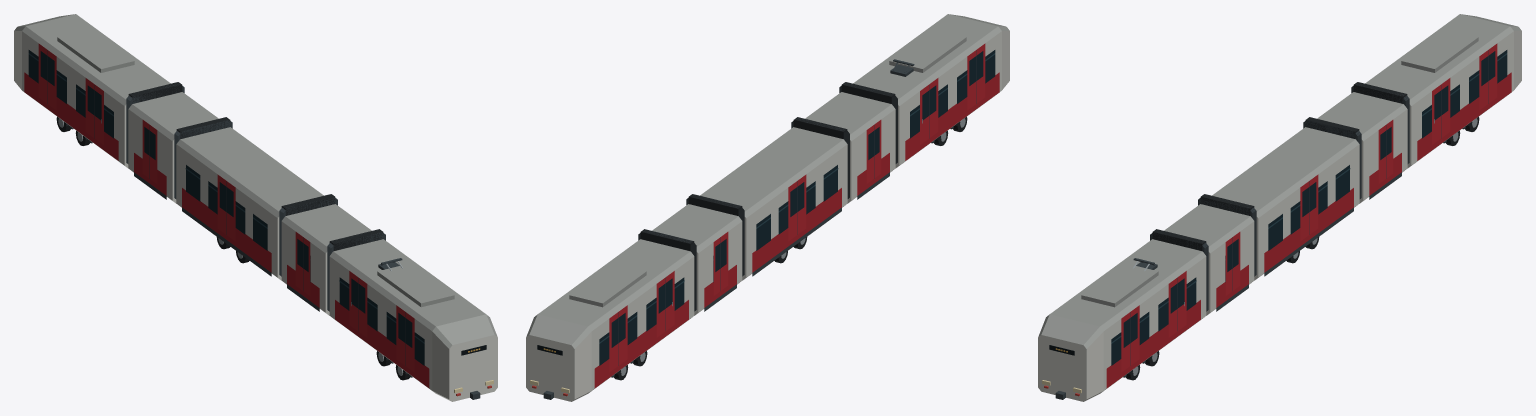
File: tram-vip-variobahn.glb
3 renders of one model, left to right at view 1: azimuth 30°, elevation 25°; view 2: azimuth 150°, elevation 25°; view 3: azimuth 330°, elevation 25°, orthographic.
Visible parts, largest first — view 1: tram-vip-variobahn.segment-01.005, tram-vip-variobahn.segment-03.005, tram-vip-variobahn.segment-05.005, tram-vip-variobahn.segment-04.005, tram-vip-variobahn.segment-02.005; view 2: tram-vip-variobahn.segment-05.005, tram-vip-variobahn.segment-01.005, tram-vip-variobahn.segment-03.005, tram-vip-variobahn.segment-04.005, tram-vip-variobahn.segment-02.005; view 3: tram-vip-variobahn.segment-01.005, tram-vip-variobahn.segment-03.005, tram-vip-variobahn.segment-05.005, tram-vip-variobahn.segment-04.005, tram-vip-variobahn.segment-02.005.
Part boxes in pixels (x1,y1,x2,y2): tram-vip-variobahn.segment-01.005: (327,229,497,401); tram-vip-variobahn.segment-03.005: (174,117,323,280); tram-vip-variobahn.segment-05.005: (14,14,170,168); tram-vip-variobahn.segment-04.005: (126,82,218,203); tram-vip-variobahn.segment-02.005: (279,194,371,315); tram-vip-variobahn.segment-05.005: (526,239,694,401); tram-vip-variobahn.segment-01.005: (839,14,1009,168); tram-vip-variobahn.segment-03.005: (686,127,847,280); tram-vip-variobahn.segment-04.005: (638,204,742,315); tram-vip-variobahn.segment-02.005: (791,92,895,203); tram-vip-variobahn.segment-01.005: (1038,229,1208,401); tram-vip-variobahn.segment-03.005: (1212,117,1361,280); tram-vip-variobahn.segment-05.005: (1365,14,1521,168); tram-vip-variobahn.segment-04.005: (1317,82,1409,203); tram-vip-variobahn.segment-02.005: (1164,194,1256,315).
Size of the model in its own units: 2.35 by 3.35 by 30.44.
